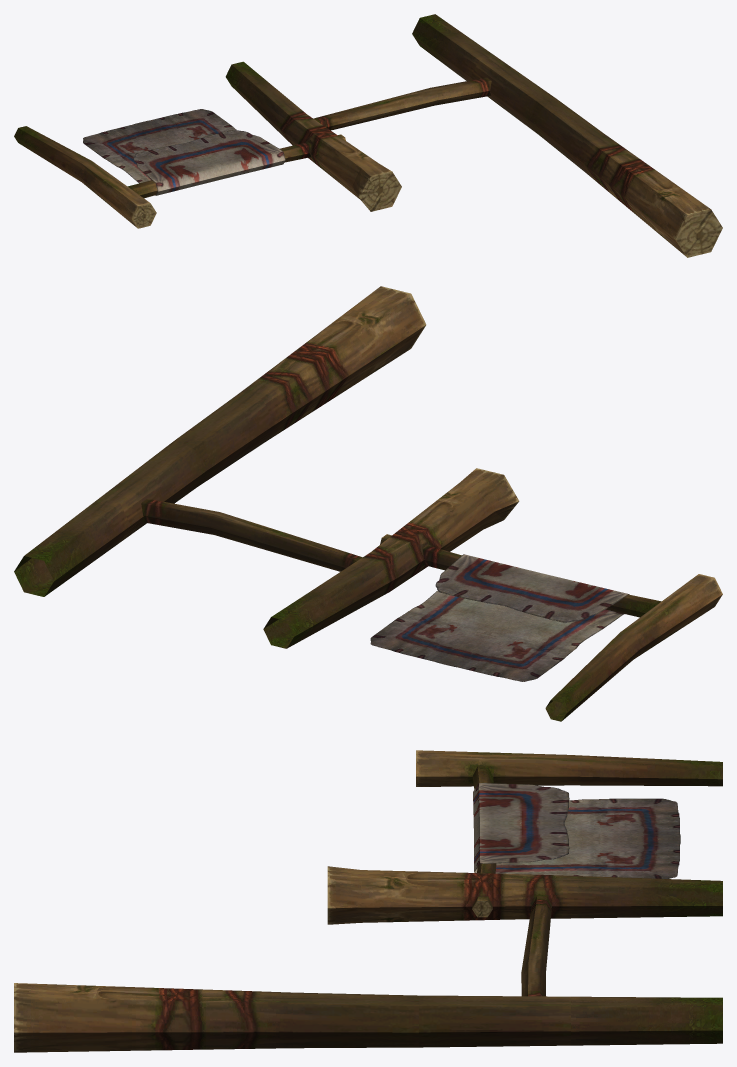
File: jinglingshu_zawu05.obj
3 views of the same model, one above another, from view 1: azimuth 30°, elevation 25°; view 2: azimuth 150°, elevation 25°; view 3: azimuth 270°, elevation 25° (orthographic). The views are drawn at different scales.
Parts seen in each view (by area): view 1: jinglingshu_zawu05; view 2: jinglingshu_zawu05; view 3: jinglingshu_zawu05.
Part boxes in pixels (x1,y1,x2,y2): jinglingshu_zawu05: (14, 14, 722, 257); jinglingshu_zawu05: (14, 286, 722, 721); jinglingshu_zawu05: (14, 750, 722, 1052).
Size of the model in its own units: 200 by 18.89 by 221.
2 materials, 2 textured.
